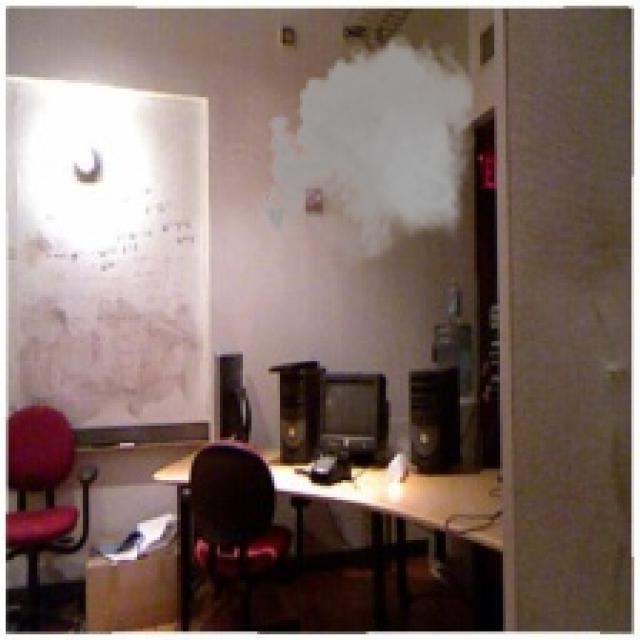smoke: (254, 26, 483, 274)
